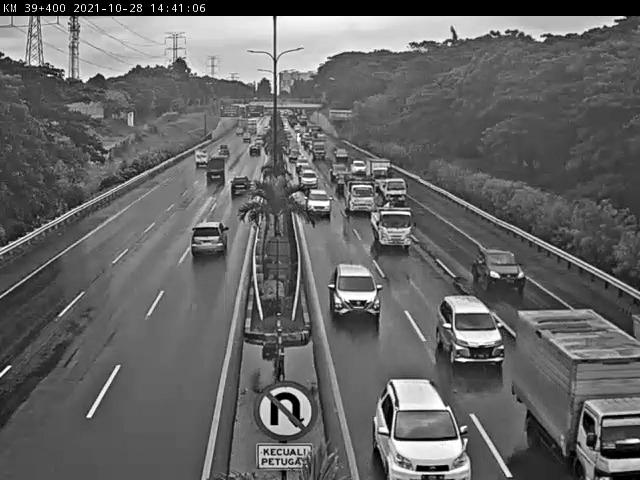car: (372, 377, 473, 480), (434, 295, 506, 369), (329, 263, 382, 317), (471, 247, 527, 291), (305, 188, 332, 215), (229, 176, 251, 198)
mid truck: (371, 208, 415, 250), (189, 222, 229, 256), (342, 179, 375, 214), (377, 176, 408, 205)
